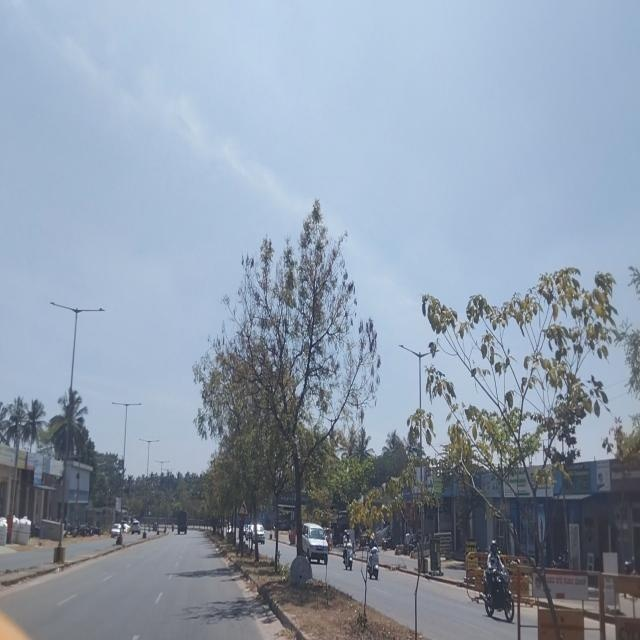bien_nguy_hiem: (238, 497, 248, 518)
